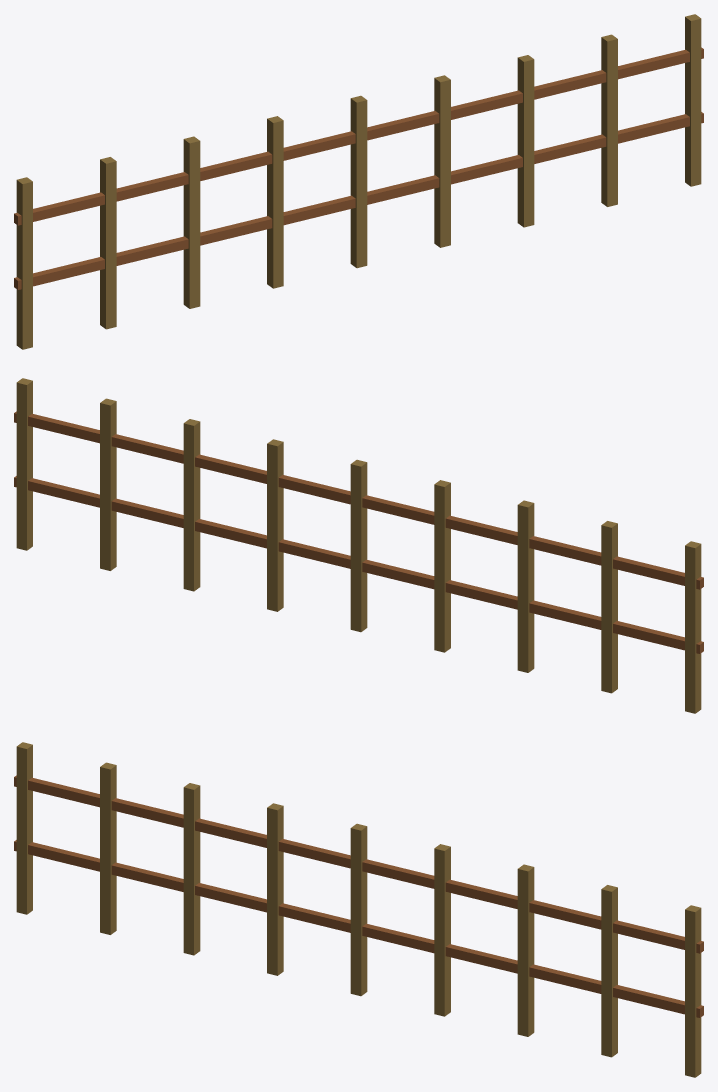
File: hang-rao-tre.glb
The picture shows the model from 3 angles, top to bottom: view 1: azimuth 30°, elevation 25°; view 2: azimuth 150°, elevation 25°; view 3: azimuth 330°, elevation 25°; orthographic projection.
Parts seen in each view (by area): view 1: hang-rao-tre; view 2: hang-rao-tre; view 3: hang-rao-tre.
Boxes of the visible parts, x1,y1,x2,y2 form: hang-rao-tre: (14,14,703,349); hang-rao-tre: (14,378,703,713); hang-rao-tre: (14,742,703,1077).
Size of the model in its own units: 3.9 by 0.9 by 0.06.
